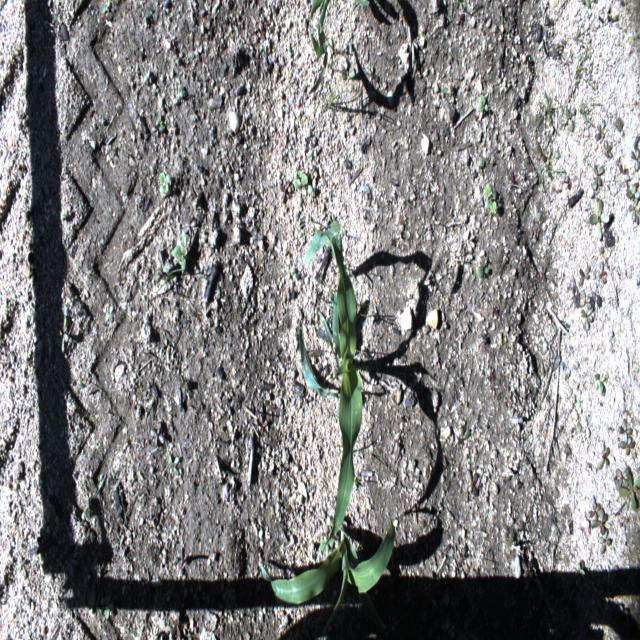crop: (299, 219, 364, 541), (258, 516, 396, 637), (308, 0, 330, 94), (355, 0, 370, 7)
weed: (535, 87, 562, 132), (326, 74, 357, 110), (538, 152, 567, 187), (150, 268, 188, 293), (588, 199, 610, 240), (170, 229, 188, 274), (577, 51, 597, 91), (618, 475, 638, 511), (317, 515, 334, 553), (580, 94, 599, 125), (153, 252, 170, 284), (590, 507, 608, 534), (149, 419, 166, 447), (293, 170, 313, 193), (56, 316, 68, 352), (464, 469, 478, 498), (560, 106, 575, 133), (574, 19, 590, 44), (300, 220, 330, 233), (580, 305, 594, 331), (318, 294, 337, 313), (615, 464, 630, 488), (618, 417, 632, 442), (456, 422, 471, 444), (476, 254, 489, 279), (593, 163, 605, 190), (166, 452, 180, 475), (486, 182, 496, 214), (629, 192, 639, 222), (342, 266, 359, 283), (597, 446, 610, 468), (599, 529, 610, 555), (158, 172, 170, 194), (522, 561, 536, 579), (630, 147, 640, 172), (580, 289, 591, 311), (595, 118, 606, 140), (442, 82, 453, 103), (579, 265, 590, 286), (620, 438, 634, 454), (626, 182, 640, 198), (589, 500, 600, 520), (595, 374, 606, 394), (153, 114, 164, 133), (598, 260, 606, 283), (353, 349, 389, 354), (342, 67, 356, 79), (479, 94, 487, 113), (576, 559, 584, 578), (604, 142, 612, 158), (60, 209, 68, 224), (358, 311, 378, 317), (290, 266, 297, 278), (104, 608, 110, 620), (581, 0, 591, 7), (577, 420, 581, 434), (479, 157, 482, 175), (576, 399, 580, 410), (450, 0, 452, 21), (501, 8, 502, 28)
